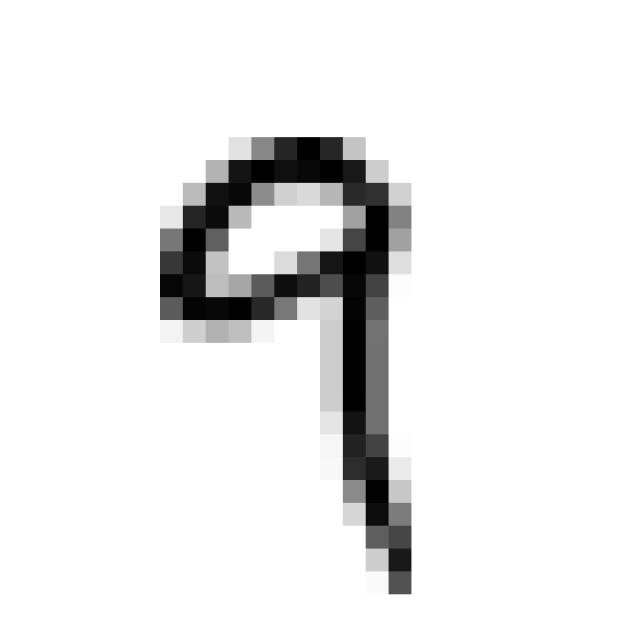9 -nine-: (135, 112, 439, 620)
